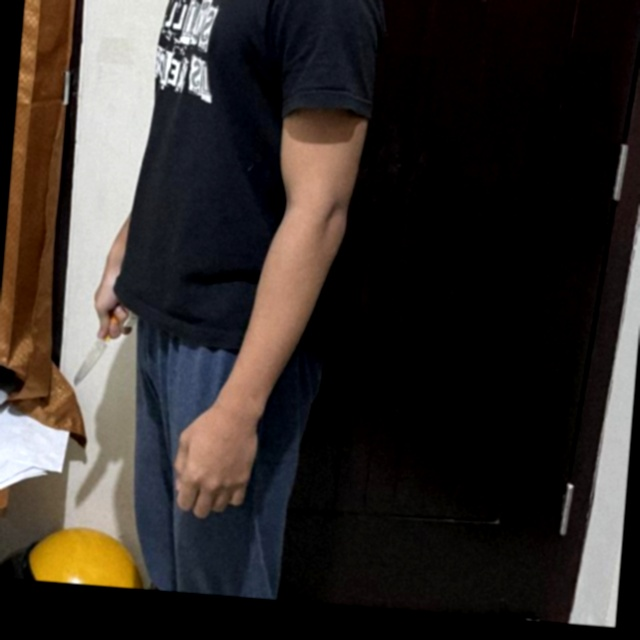Sharp-Object: (73, 302, 123, 392)
